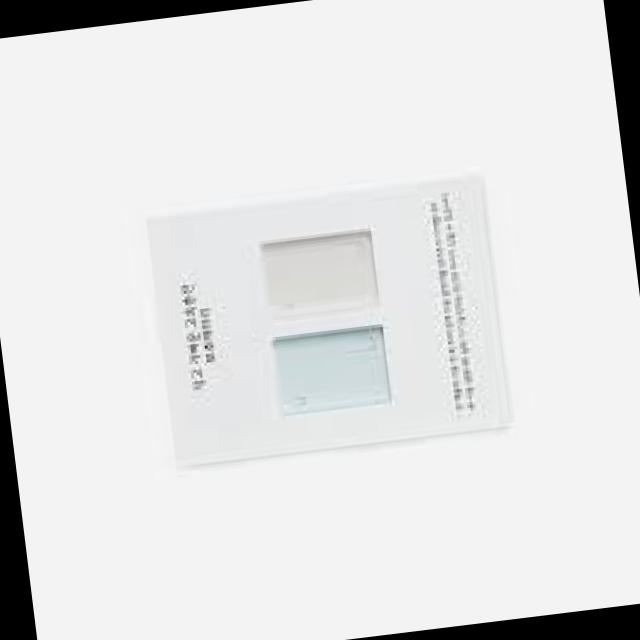portable-charger: (269, 319, 397, 420), (258, 226, 378, 317)
